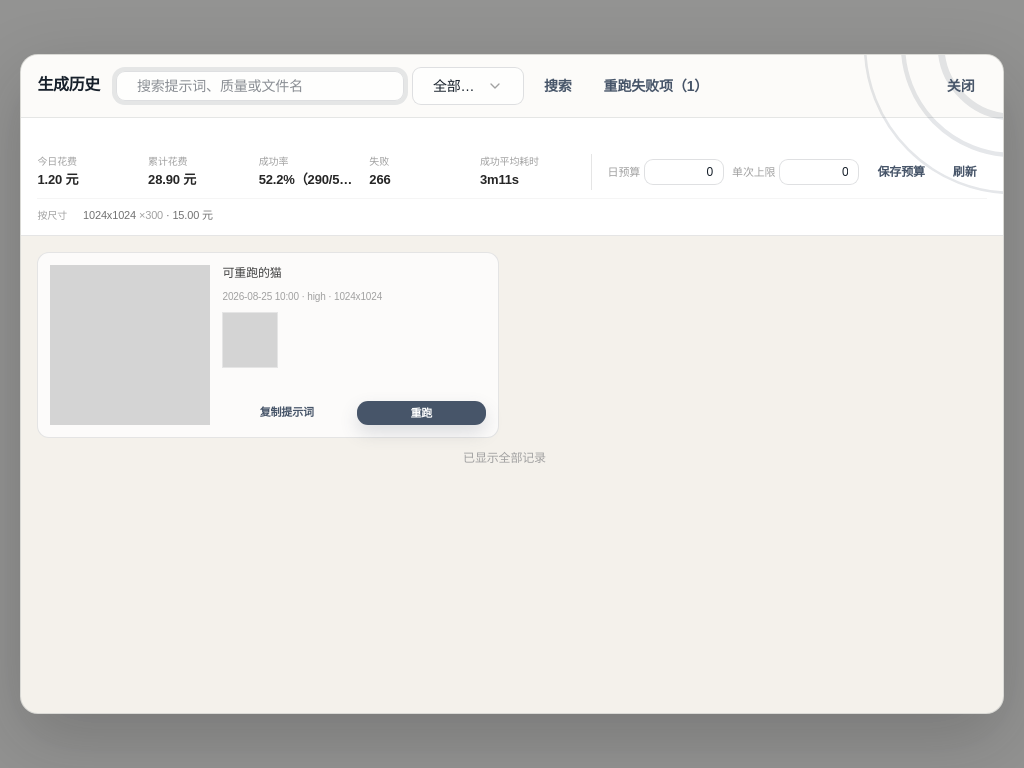
HistoryGallery 成本看板与重跑失败项 › 点批量重跑 → 弹窗显示预估费用；确认后按未超预算提交
Expected: the text "可重跑的猫" is shown, [222,266,282,280]
Click the button "重跑失败项（1）": (656, 86) [592,72,720,100]
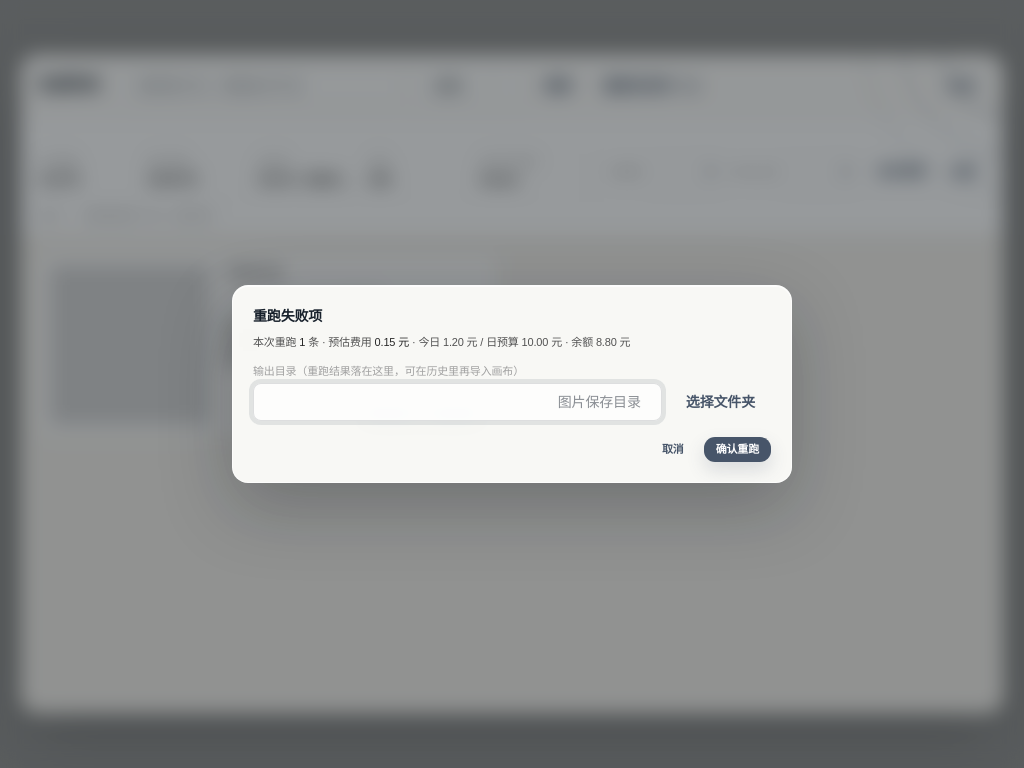
Expected: the dialog with test id "rerun-dialog" shows "0.15 元", [375,336,409,348]
Click the button "确认重跑": (737, 450) [704,437,771,462]
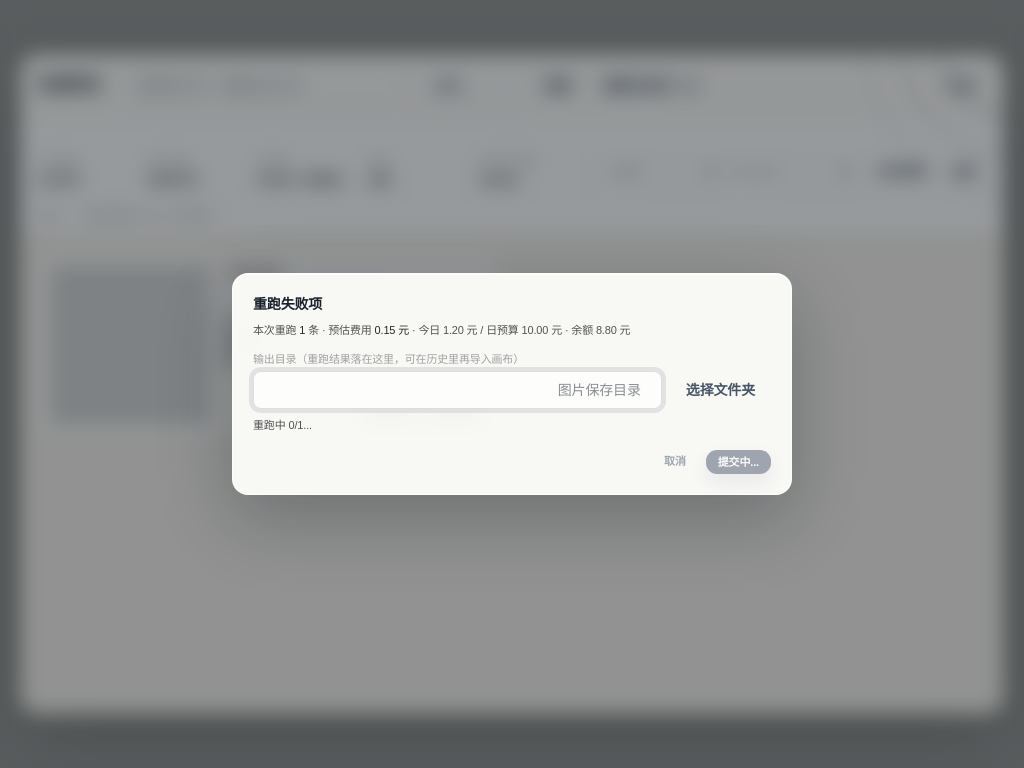
Expected: the text "重跑中 0/1..." is shown, [253,419,312,431]
